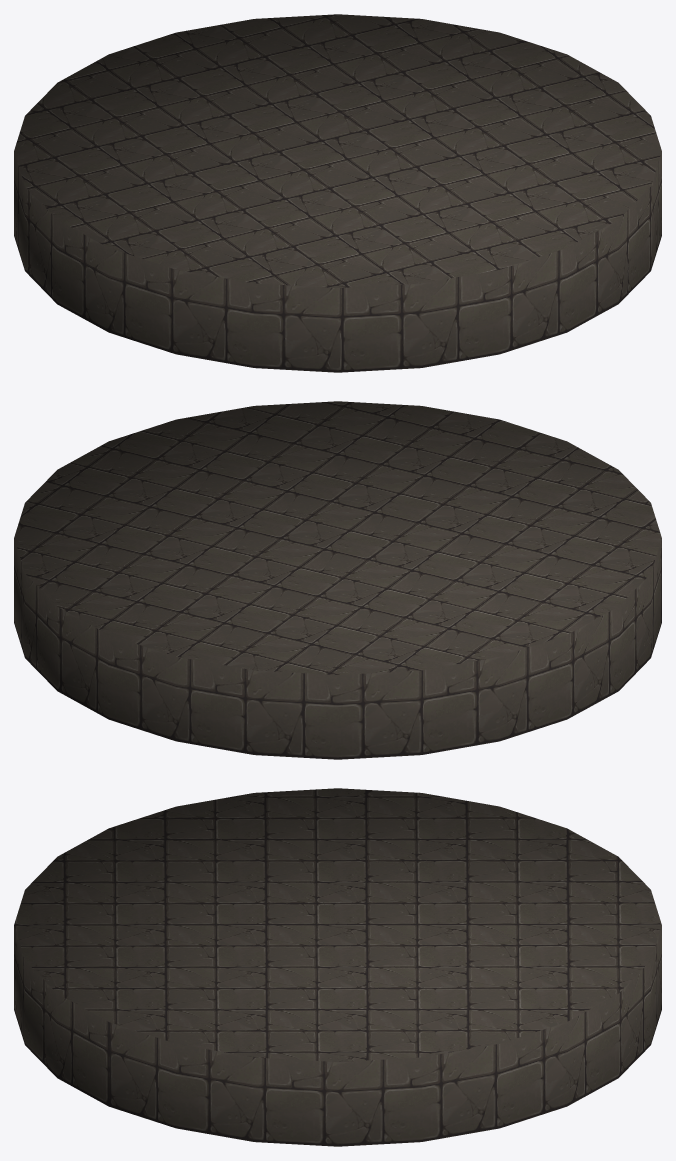
File: sn_longmai_baseframe_002.FBX
3 views of the same model, one above another, from view 1: azimuth 30°, elevation 25°; view 2: azimuth 150°, elevation 25°; view 3: azimuth 270°, elevation 25° (orthographic).
Visible parts, largest first — view 1: sn_longmai_baseframe_002; view 2: sn_longmai_baseframe_002; view 3: sn_longmai_baseframe_002.
Part boxes in pixels (x1,y1,x2,y2): sn_longmai_baseframe_002: (14, 14, 661, 372); sn_longmai_baseframe_002: (14, 401, 661, 759); sn_longmai_baseframe_002: (14, 788, 661, 1146).
Size of the model in its own units: 1582 by 228 by 1582.
